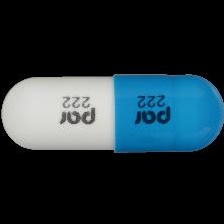42291-247: (0, 0, 224, 224)
